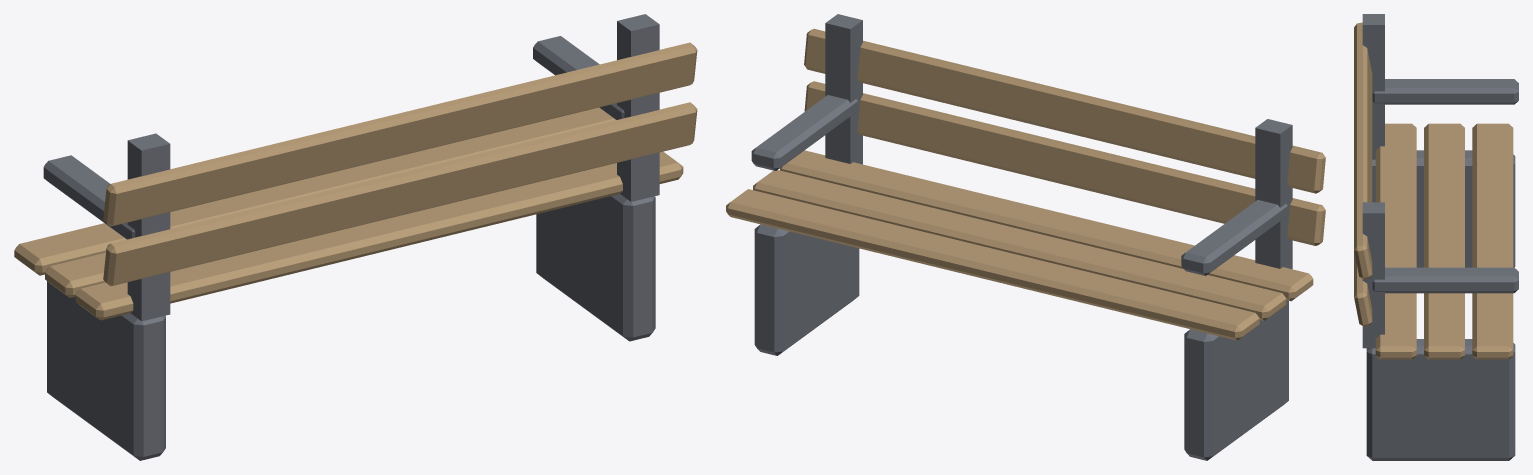
Rendered from mobiliario__banco_praca.glb.
3 views of the same model, side by side, from view 1: azimuth 30°, elevation 25°; view 2: azimuth 150°, elevation 25°; view 3: azimuth 270°, elevation 25° (orthographic). The views are drawn at different scales.
Parts seen in each view (by area): view 1: mobiliario__banco_praca; view 2: mobiliario__banco_praca; view 3: mobiliario__banco_praca.
Boxes of the visible parts, box(x1,y1,x2,y2) form: mobiliario__banco_praca: box(14, 14, 697, 460); mobiliario__banco_praca: box(726, 14, 1325, 460); mobiliario__banco_praca: box(1354, 14, 1518, 460).
Size of the model in its own units: 0.72 by 0.37 by 0.2217.
